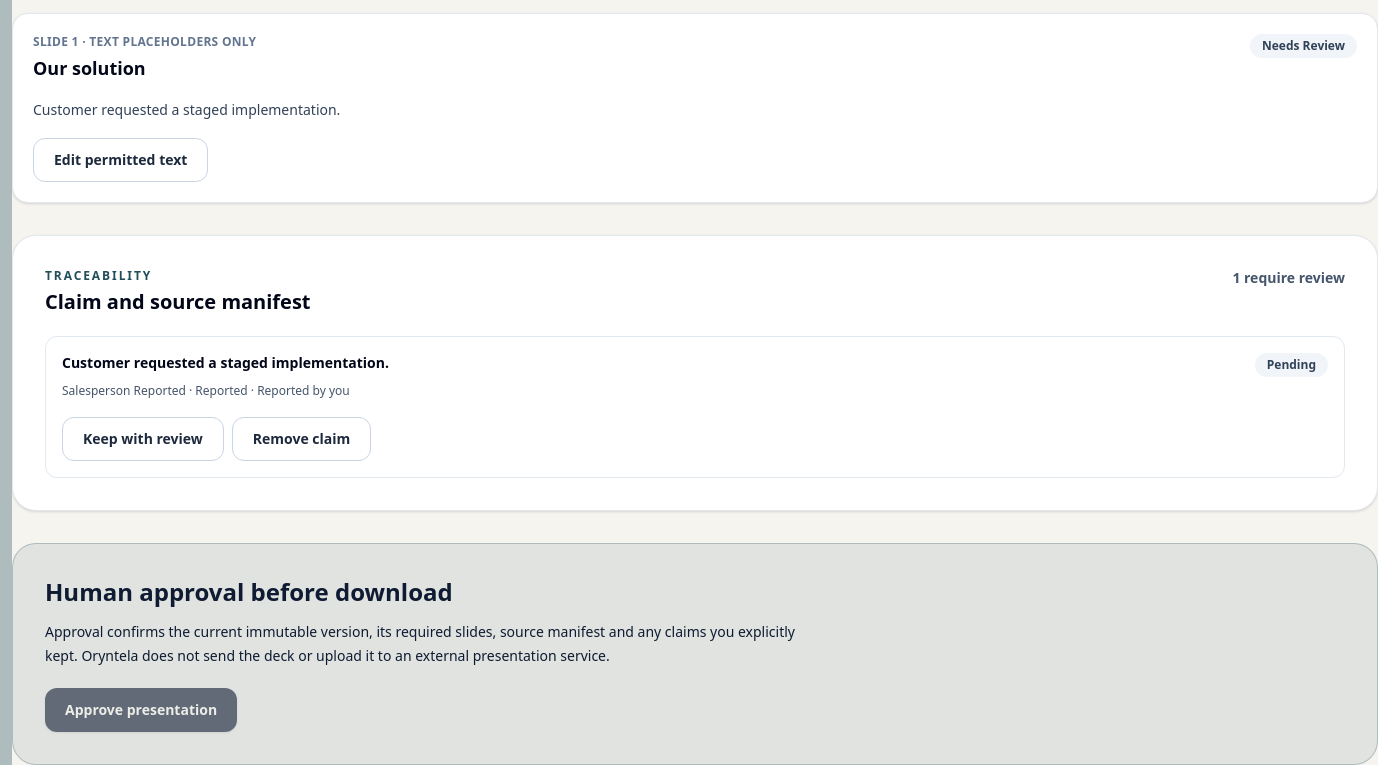
Test: Create › requires an explicit decision for reported claims before approval
The image size is (1378, 765).
(page scrolled)
Check: the text "Customer requested a staged implementation." is shown 2 times, box [33, 100, 340, 119]; [62, 353, 389, 373]
Check: the button "Approve presentation" is disabled, box [45, 688, 237, 732]
Click the button "Keep with review": coordinates (143, 439) [62, 417, 224, 461]
(page scrolled)
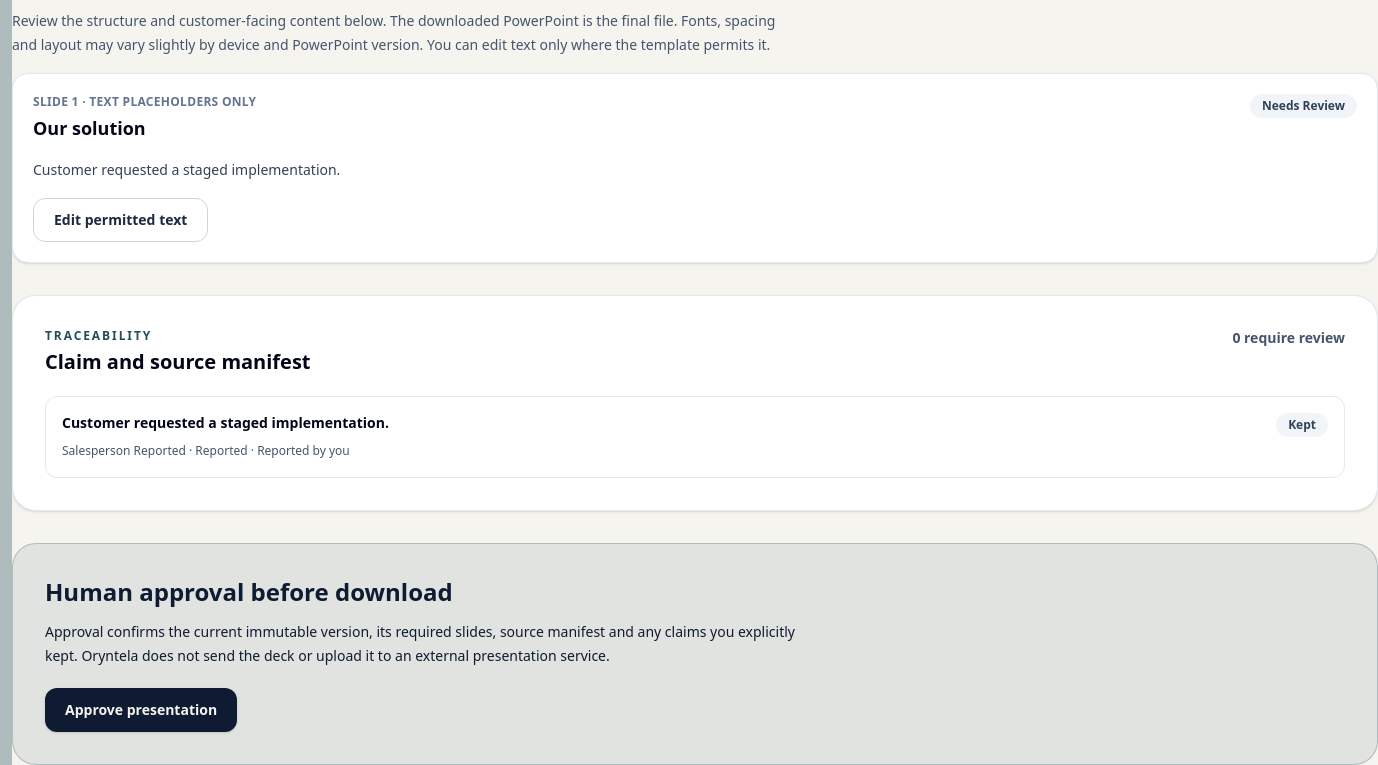
Check: the button "Approve presentation" is enabled, box [45, 688, 237, 732]
